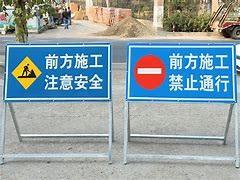sign: (129, 44, 236, 102), (7, 44, 109, 100)
